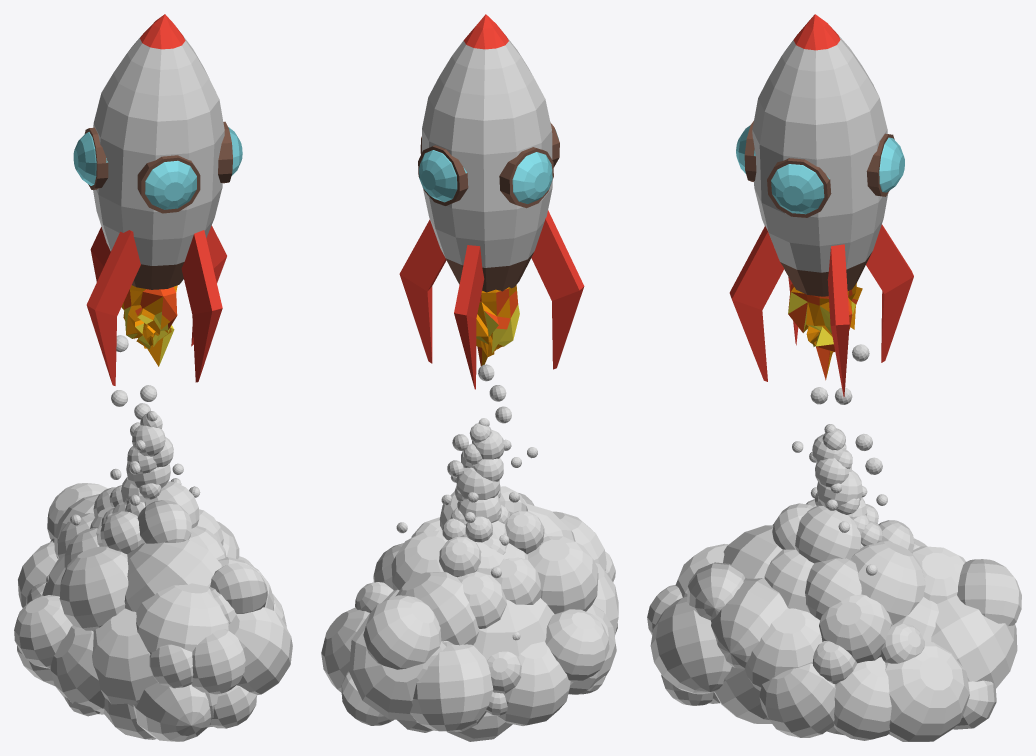
File: Rocketship.glb
3 renders of one model, left to right at view 1: azimuth 30°, elevation 25°; view 2: azimuth 150°, elevation 25°; view 3: azimuth 270°, elevation 25°, orthographic. The views are drawn at different scales.
Visible parts, largest first — view 1: Node; view 2: Node; view 3: Node.
Boxes of the visible parts, x1,y1,x2,y2 form: Node: (14, 14, 292, 741); Node: (321, 14, 618, 741); Node: (647, 14, 1021, 741).
Size of the model in its own units: 0.491 by 1.35 by 0.6365.
